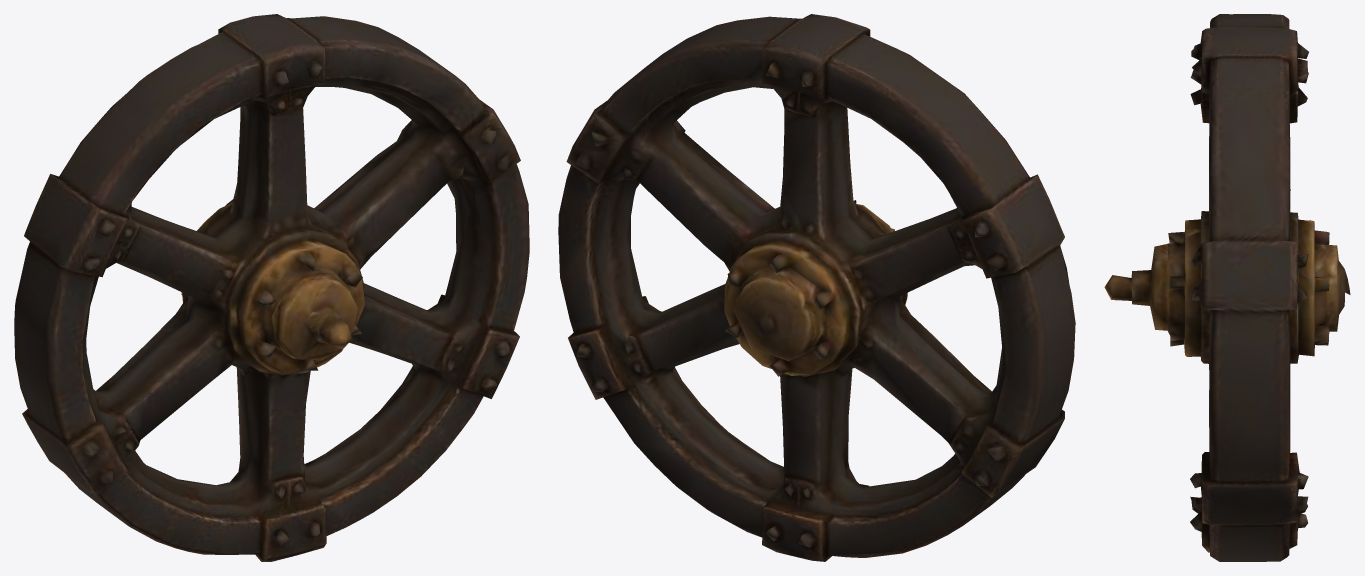
The model's file is flywheel.glb.
3 renders of one model, left to right at view 1: azimuth 30°, elevation 25°; view 2: azimuth 150°, elevation 25°; view 3: azimuth 270°, elevation 25°, orthographic.
Visible parts, largest first — view 1: flywheel; view 2: flywheel; view 3: flywheel.
Part boxes in pixels (x1,y1,x2,y2): flywheel: [14, 14, 529, 561]; flywheel: [558, 14, 1075, 561]; flywheel: [1104, 14, 1350, 561].
Size of the model in its own units: 2.09 by 2.1 by 0.9338.
1 material, 1 textured.
